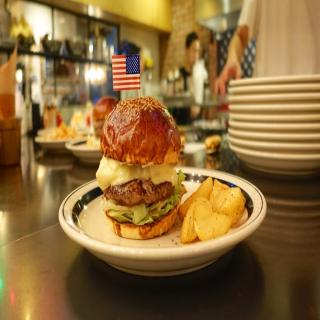Hamburger: (94, 94, 180, 238)
